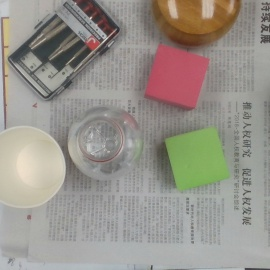bottle: (67, 106, 141, 183)
chess: (153, 1, 240, 44)
cup: (1, 126, 66, 209)
